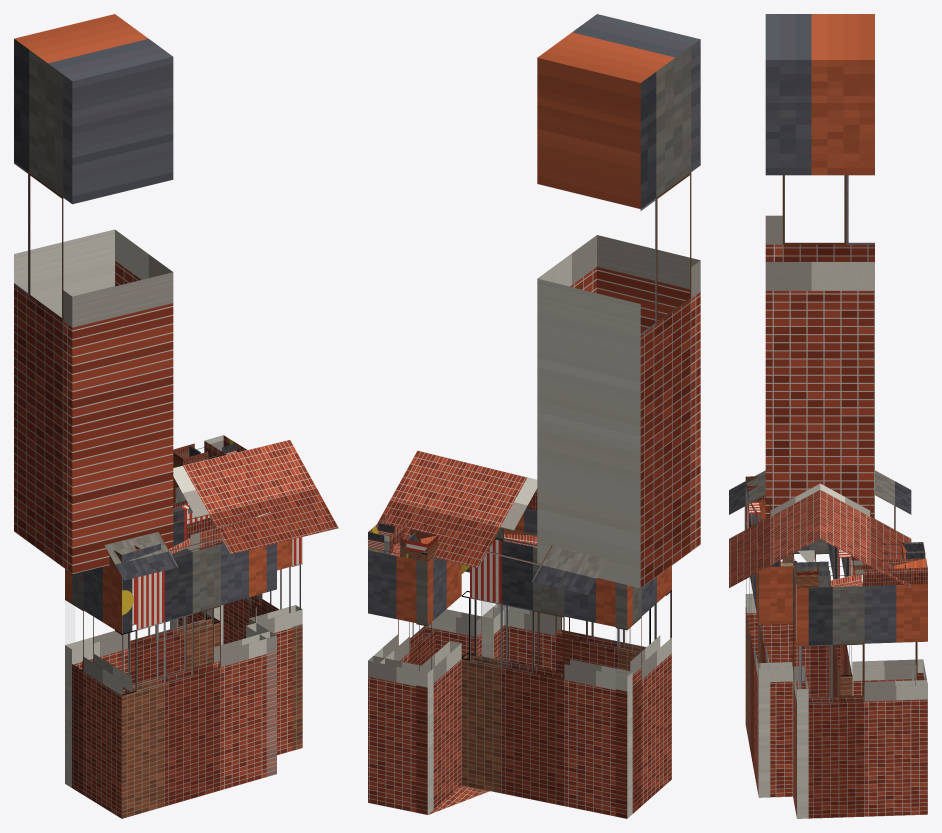
3 renders of one model, left to right at view 1: azimuth 30°, elevation 25°; view 2: azimuth 150°, elevation 25°; view 3: azimuth 270°, elevation 25°, orthographic. The views are drawn at different scales.
Parts seen in each view (by area): view 1: 316903731__chimney_0_xb, 316903731__wall_0_xb, 316903731_roof_-1_xb, 316903731__wall_7_xb, 316903731__wall_6_xb, 316903731__wall_3_xb, 316903731__wall_2_xb, 316903731__wall_1_xb, 316903731__cornice_0, 316903731__cornice_4; view 2: 316903731__chimney_0_xb, 316903731__wall_6_xb, 316903731_roof_1_xb, 316903731__wall_4_xb, 316903731__wall_7_xb, 316903731__wall_5_xb, 316903731__wall_0_xb, 316903731__wall_2_xb, 316903731__wall_3_xb, 316903731__cornice_4, 316903731__wall_1_xb; view 3: 316903731__chimney_0_xb, 316903731__wall_3_xb, 316903731_roof_-1_xb, 316903731_roof_1_xb, 316903731__wall_0_xb, 316903731__wall_1_xb, 316903731__wall_7_xb, 316903731__wall_2_xb, 316903731__cornice_3, 316903731__wall_5_xb, 316903731__wall_6_xb, 316903731__cornice_2 (+1 smaller).
Boxes of the visible parts, x1,y1,x2,y2 form: 316903731__chimney_0_xb: [14, 14, 173, 573]; 316903731__wall_0_xb: [115, 543, 269, 818]; 316903731_roof_-1_xb: [104, 439, 338, 580]; 316903731__wall_7_xb: [65, 565, 132, 818]; 316903731__wall_6_xb: [65, 504, 219, 787]; 316903731__wall_3_xb: [223, 537, 302, 750]; 316903731__wall_2_xb: [249, 539, 302, 755]; 316903731__wall_1_xb: [246, 543, 276, 776]; 316903731__cornice_0: [122, 510, 276, 562]; 316903731__cornice_4: [173, 436, 236, 467]; 316903731__chimney_0_xb: [537, 14, 700, 588]; 316903731__wall_6_xb: [461, 539, 632, 818]; 316903731_roof_1_xb: [377, 450, 607, 594]; 316903731__wall_4_xb: [368, 550, 433, 814]; 316903731__wall_7_xb: [615, 566, 671, 818]; 316903731__wall_5_xb: [416, 557, 461, 814]; 316903731__wall_0_xb: [493, 508, 671, 672]; 316903731__wall_2_xb: [425, 567, 481, 657]; 316903731__wall_3_xb: [373, 619, 435, 665]; 316903731__cornice_4: [368, 523, 438, 562]; 316903731__wall_1_xb: [482, 530, 509, 660]; 316903731__chimney_0_xb: [765, 14, 874, 518]; 316903731__wall_3_xb: [796, 584, 927, 818]; 316903731_roof_-1_xb: [729, 470, 820, 587]; 316903731_roof_1_xb: [820, 470, 911, 587]; 316903731__wall_0_xb: [745, 502, 770, 797]; 316903731__wall_1_xb: [758, 561, 792, 797]; 316903731__wall_7_xb: [745, 501, 840, 697]; 316903731__wall_2_xb: [793, 566, 808, 818]; 316903731__cornice_3: [795, 558, 927, 587]; 316903731__wall_5_xb: [852, 563, 924, 695]; 316903731__wall_6_xb: [828, 544, 852, 696]; 316903731__cornice_2: [793, 549, 818, 588].
Bounding box in the file's own units: 0.3672 × 1.05 × 0.2732.
Materials: 1 (1 with a texture image).
